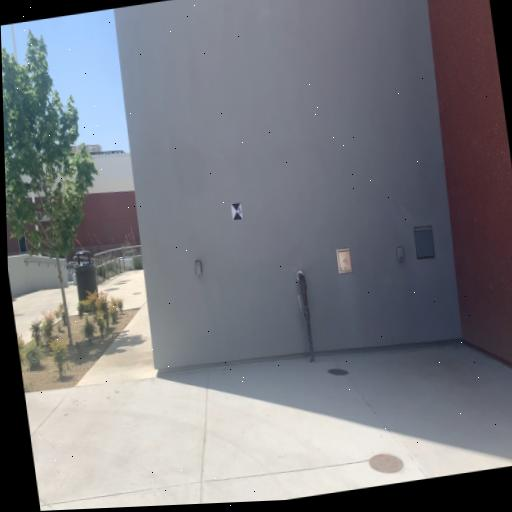target5: (231, 201, 243, 221)
